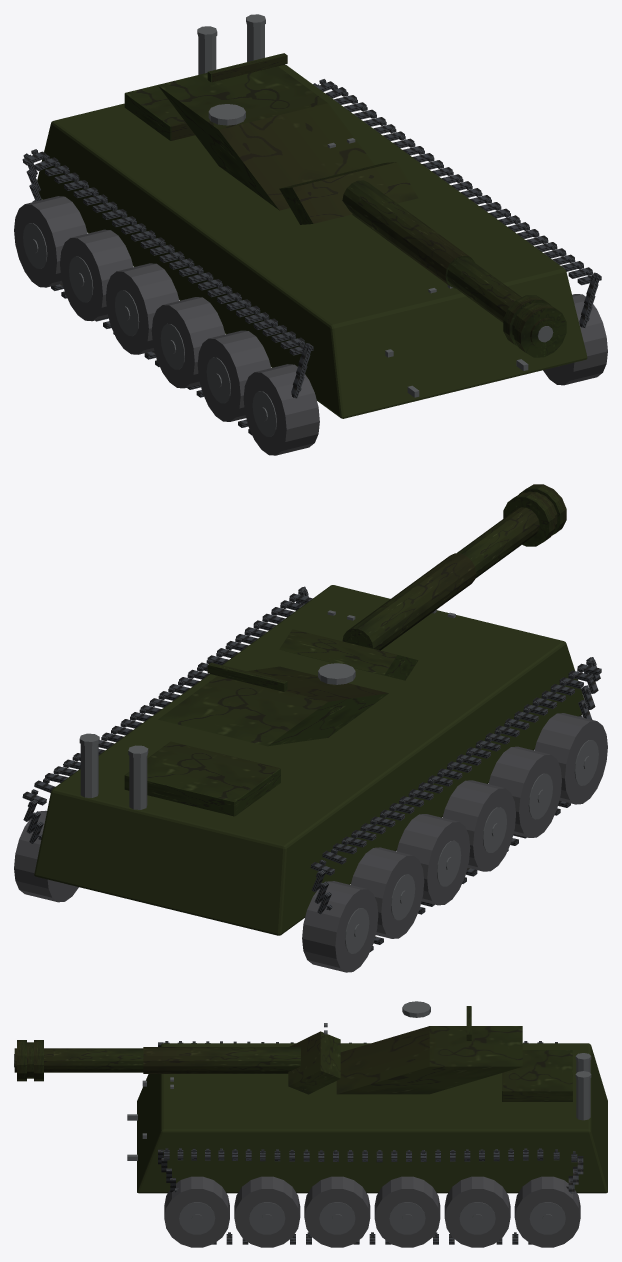
File: maul_LOD0.glb
3 views of the same model, one above another, from view 1: azimuth 30°, elevation 25°; view 2: azimuth 150°, elevation 25°; view 3: azimuth 270°, elevation 25° (orthographic). The views are drawn at different scales.
Visible parts, largest first — view 1: HullMesh, Wheels_L, CasemateMesh, TrackL, TrackR, Gun_tube1, Gun_tube2, Wheels_R, Gun_brk1, Gun_brk2, exh-1, exh1; view 2: HullMesh, Wheels_L, CasemateMesh, TrackL, Gun_tube1, TrackR, Gun_tube2, Wheels_R, Gun_brk2, exh-1, exh1, Gun_brk1; view 3: HullMesh, Wheels_R, CasemateMesh, Gun_tube1, TrackR, Gun_tube2, exh1, Gun_brk1, Gun_brk2.
Boxes of the visible parts, box(x1,y1,x2,y2) form: HullMesh: box(37, 64, 587, 418); Wheels_L: box(14, 196, 319, 455); CasemateMesh: box(158, 53, 418, 224); TrackL: box(22, 149, 313, 435); TrackR: box(313, 79, 601, 327); Gun_tube1: box(342, 180, 474, 288); Gun_tube2: box(447, 257, 558, 348); Wheels_R: box(543, 294, 607, 385); Gun_brk1: box(514, 303, 566, 357); Gun_brk2: box(503, 295, 550, 346); exh-1: box(198, 36, 216, 74); exh1: box(247, 24, 264, 61); HullMesh: box(34, 585, 584, 935); Wheels_L: box(302, 713, 607, 972); CasemateMesh: box(158, 610, 418, 746); TrackL: box(310, 657, 601, 952); Gun_tube1: box(342, 553, 476, 650); TrackR: box(22, 586, 312, 843); Gun_tube2: box(457, 507, 539, 578); Wheels_R: box(14, 810, 78, 902); Gun_brk2: box(503, 492, 555, 546); exh-1: box(129, 756, 147, 809); exh1: box(80, 744, 98, 797); Gun_brk1: box(519, 484, 566, 535); HullMesh: box(127, 1043, 607, 1193); Wheels_R: box(164, 1176, 580, 1247); CasemateMesh: box(288, 1001, 522, 1094); Gun_tube1: box(143, 1047, 300, 1073); TrackR: box(158, 1148, 583, 1244); Gun_tube2: box(14, 1048, 143, 1072); exh1: box(576, 1078, 590, 1120); Gun_brk1: box(17, 1040, 26, 1081); Gun_brk2: box(34, 1040, 43, 1081).
Size of the model in its own units: 4 by 2.58 by 8.3.
5 materials, 3 textured.
